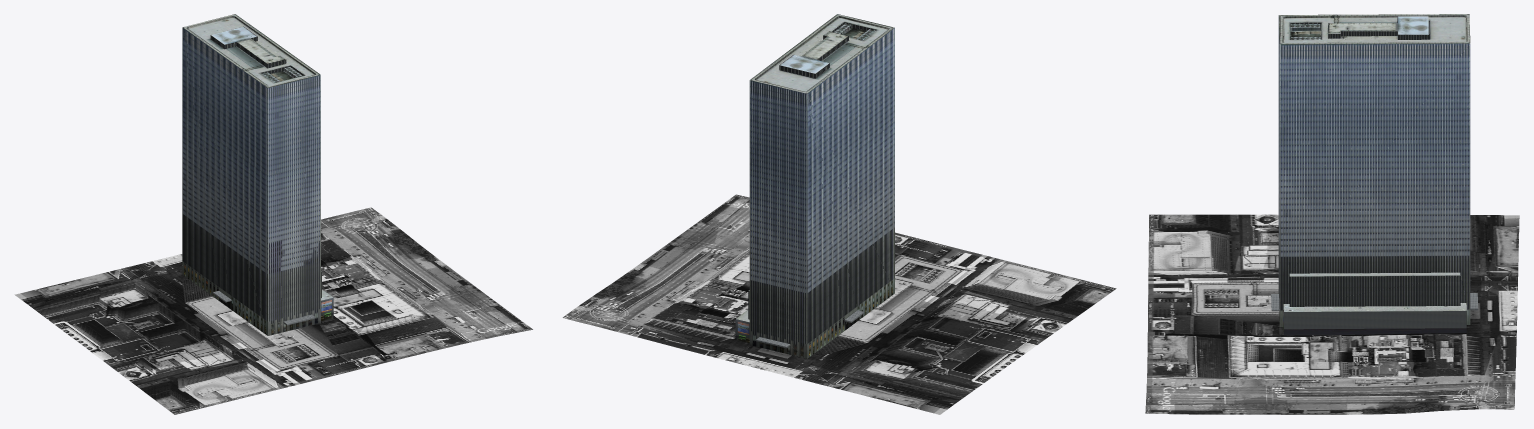
The model's file is Mid-Continental-Plaza.fbx.
3 views of the same model, side by side, from view 1: azimuth 30°, elevation 25°; view 2: azimuth 150°, elevation 25°; view 3: azimuth 270°, elevation 25° (orthographic). The views are drawn at different scales.
Parts seen in each view (by area): view 1: Google_Earth_Terrain, Model; view 2: Google_Earth_Terrain, Model; view 3: Model, Google_Earth_Terrain.
Part boxes in pixels (<box>): Google_Earth_Terrain: <box>14,207,532,414</box>; Model: <box>182,14,333,335</box>; Google_Earth_Terrain: <box>562,194,1116,414</box>; Model: <box>735,14,894,358</box>; Model: <box>1271,14,1478,335</box>; Google_Earth_Terrain: <box>1145,214,1519,414</box>.
Bounding box in the file's own units: 10572 × 7120 × 8395.
